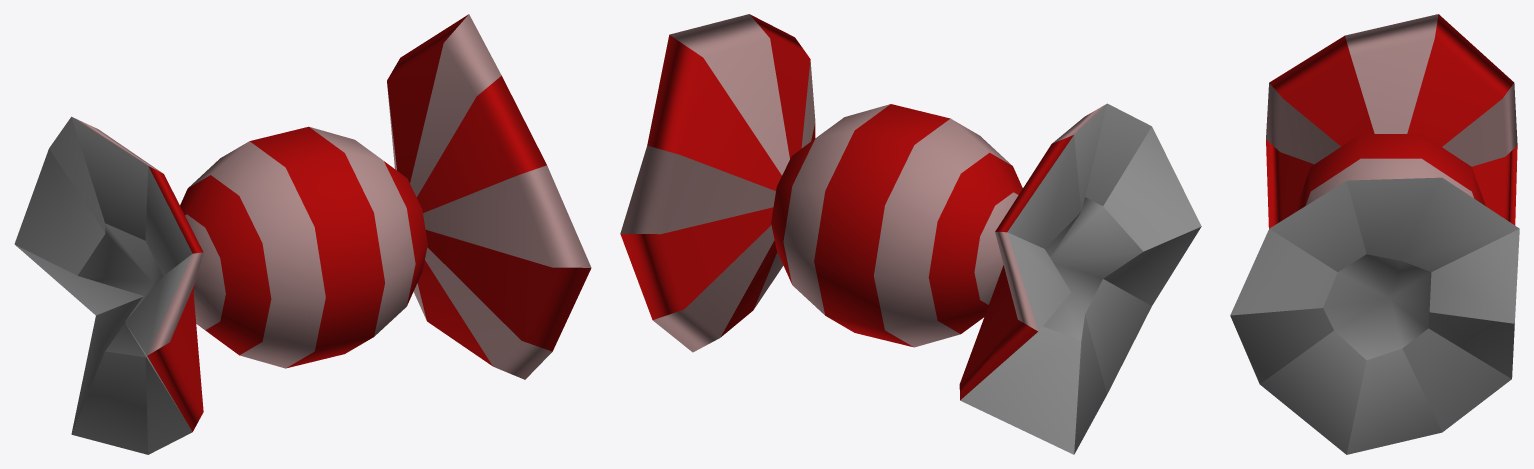
Rendered from Candy_Red.fbx.
3 renders of one model, left to right at view 1: azimuth 30°, elevation 25°; view 2: azimuth 150°, elevation 25°; view 3: azimuth 270°, elevation 25°, orthographic. The views are drawn at different scales.
Parts seen in each view (by area): view 1: pSphere1; view 2: pSphere1; view 3: pSphere1.
Part boxes in pixels (x1,y1,x2,y2): pSphere1: [14, 14, 591, 454]; pSphere1: [620, 14, 1201, 454]; pSphere1: [1230, 14, 1519, 454].
Size of the model in its own units: 3.81 by 2.74 by 2.59.
